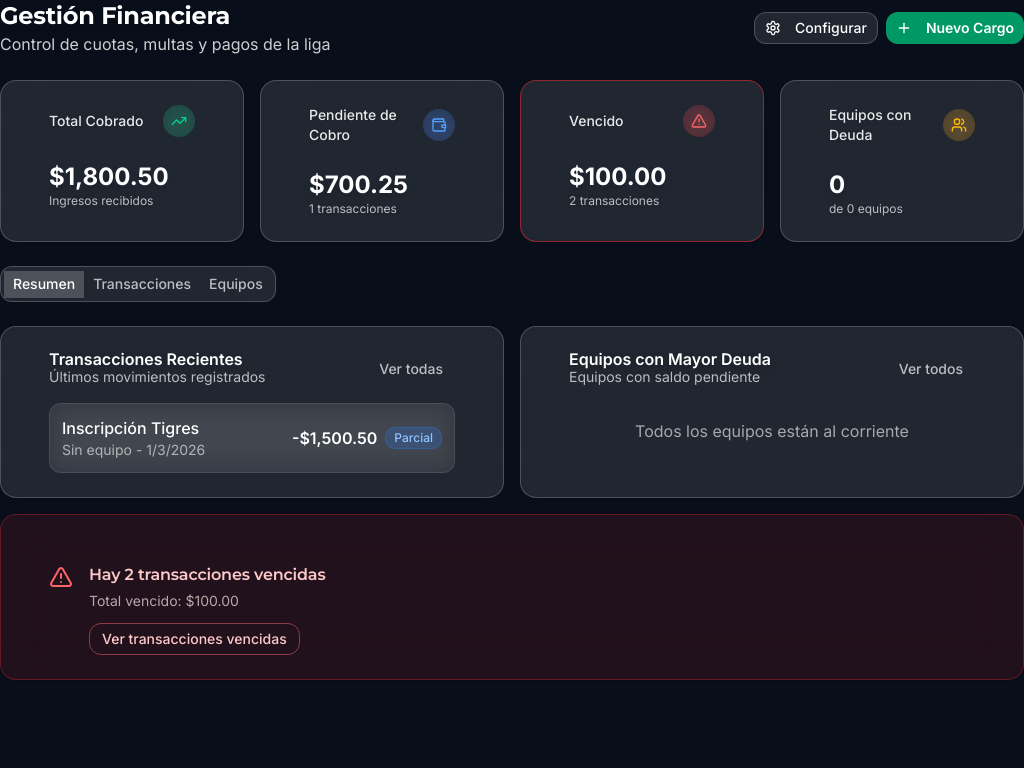
Test case: Finance parity: payment dialog › summarises the charge and says whether the payment is full or partial
Click the tab "Transacciones" at (142, 284), box [84,270,200,298]
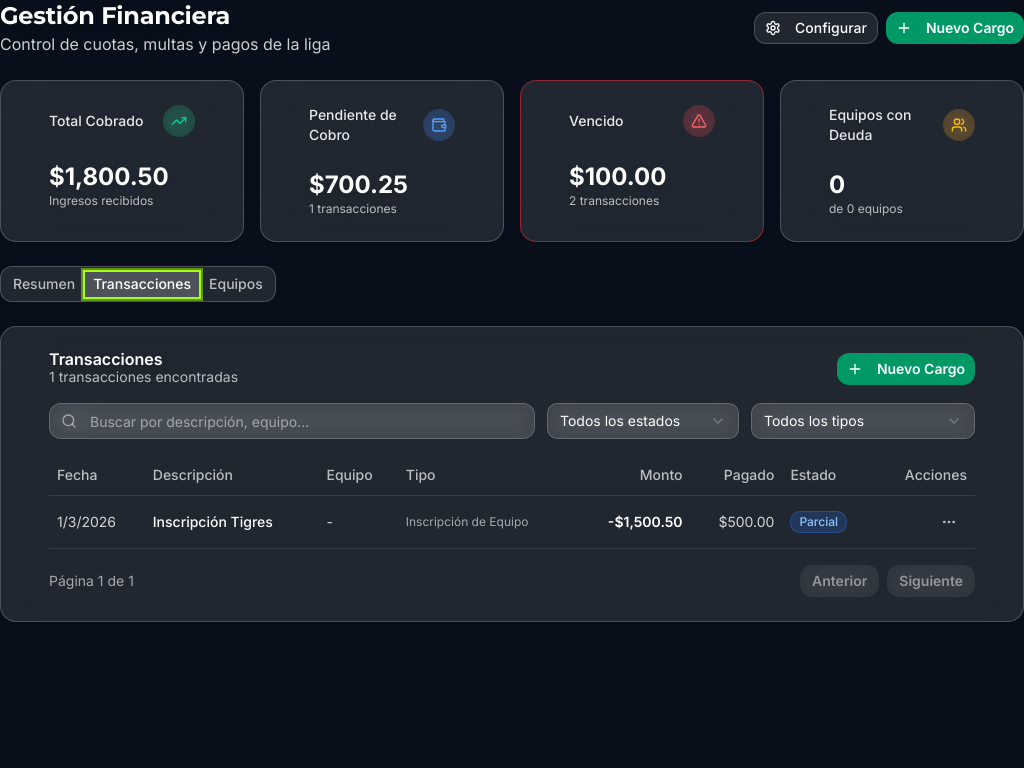
Click the button named "Acciones de Inscripción Tigres" at (949, 522), box [931,504,967,540]
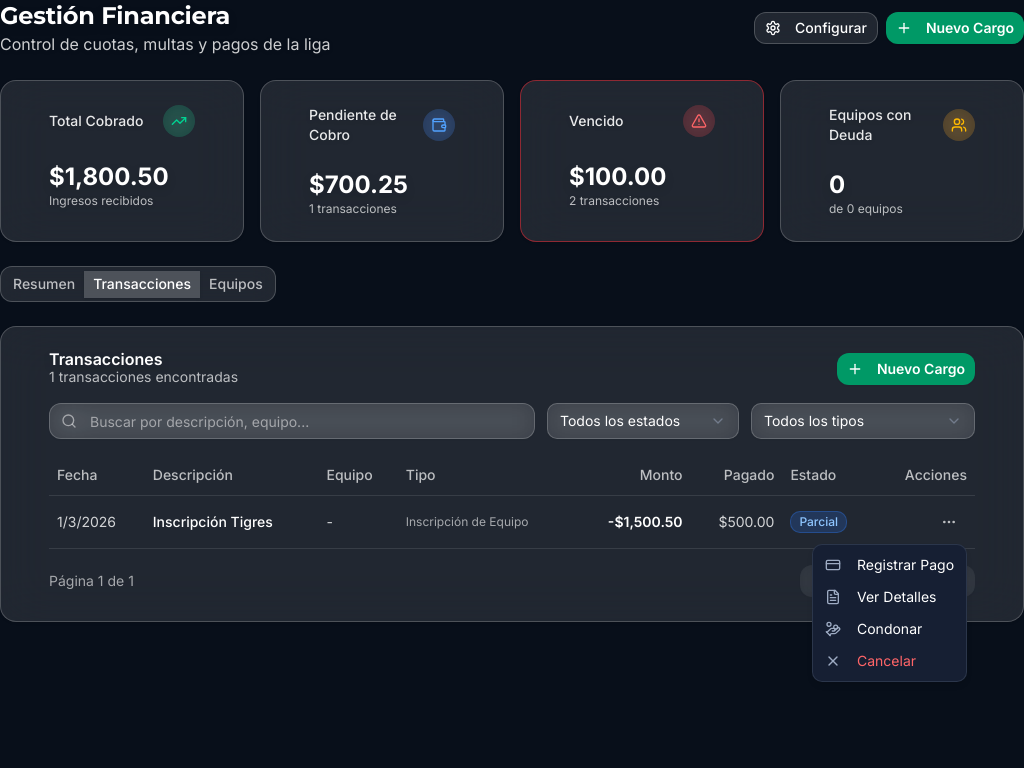
Click the menu item "Registrar Pago" at (890, 564), box [825,556,954,573]
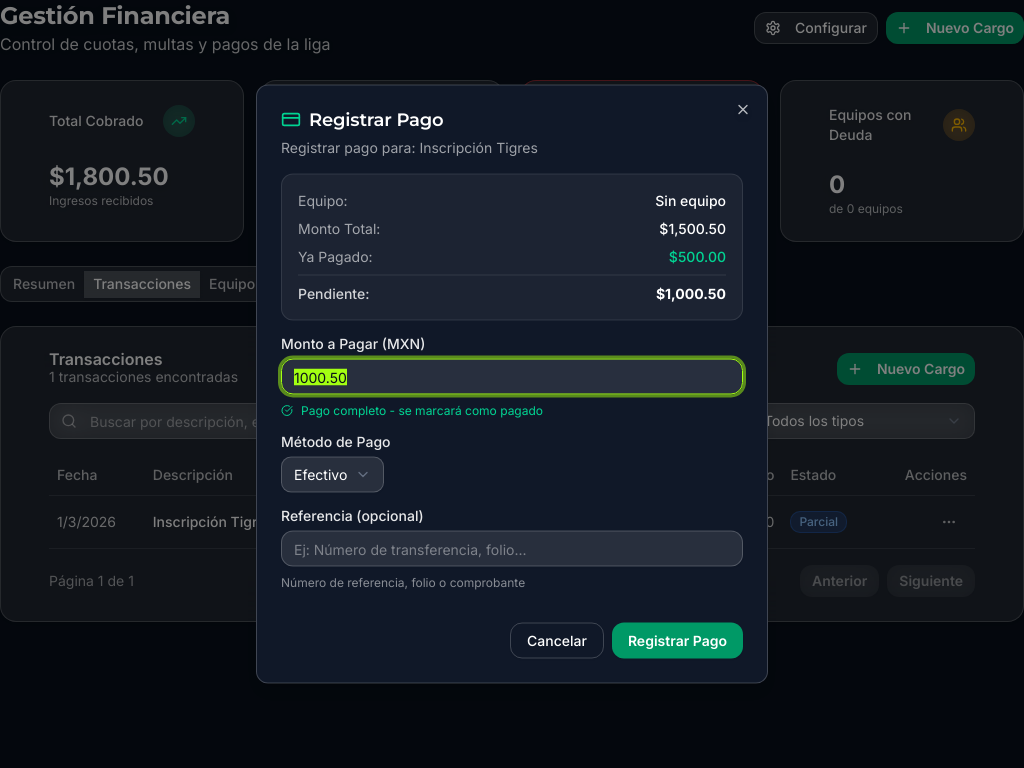
Check: the text "Registrar pago para: Inscripción Tigres" is shown, box [281,138,538,156]
Check: the text "$1,500.50" is shown, box [659,218,726,238]
Check: the text "$500.00" is shown, box [669,246,726,266]
Clear the field labelled "Monto a Pagar (MXN)" at (512, 376), box [281,358,743,394]
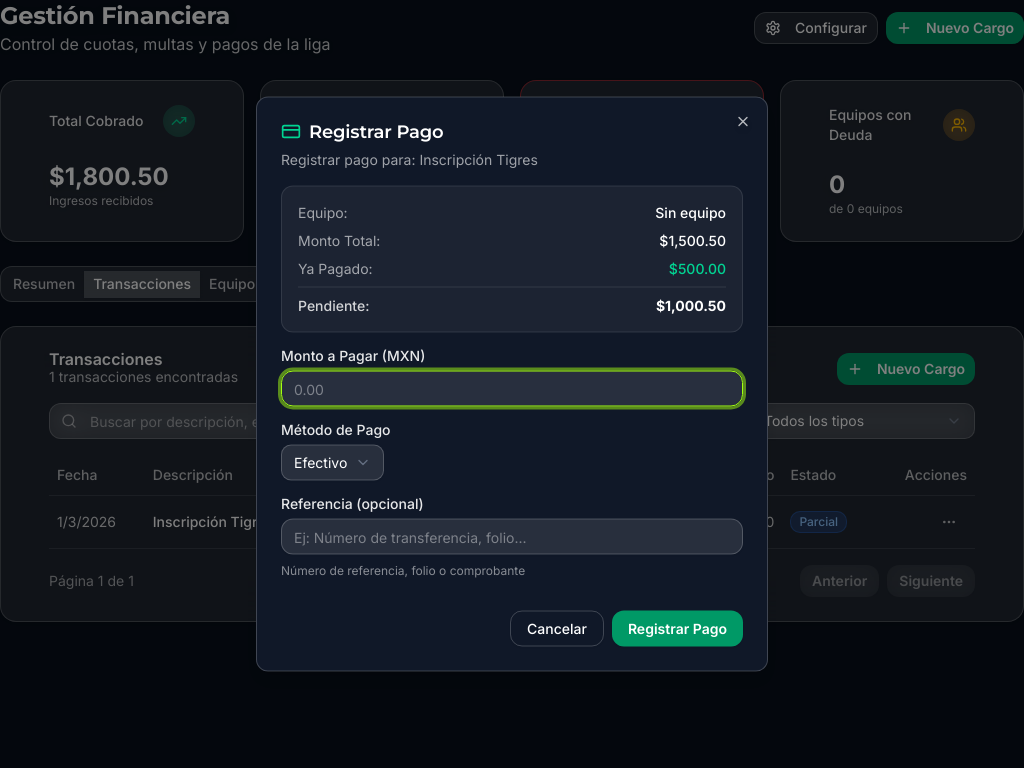
Type "400" into the field labelled "Monto a Pagar (MXN)" at (512, 388), box [281,370,743,406]
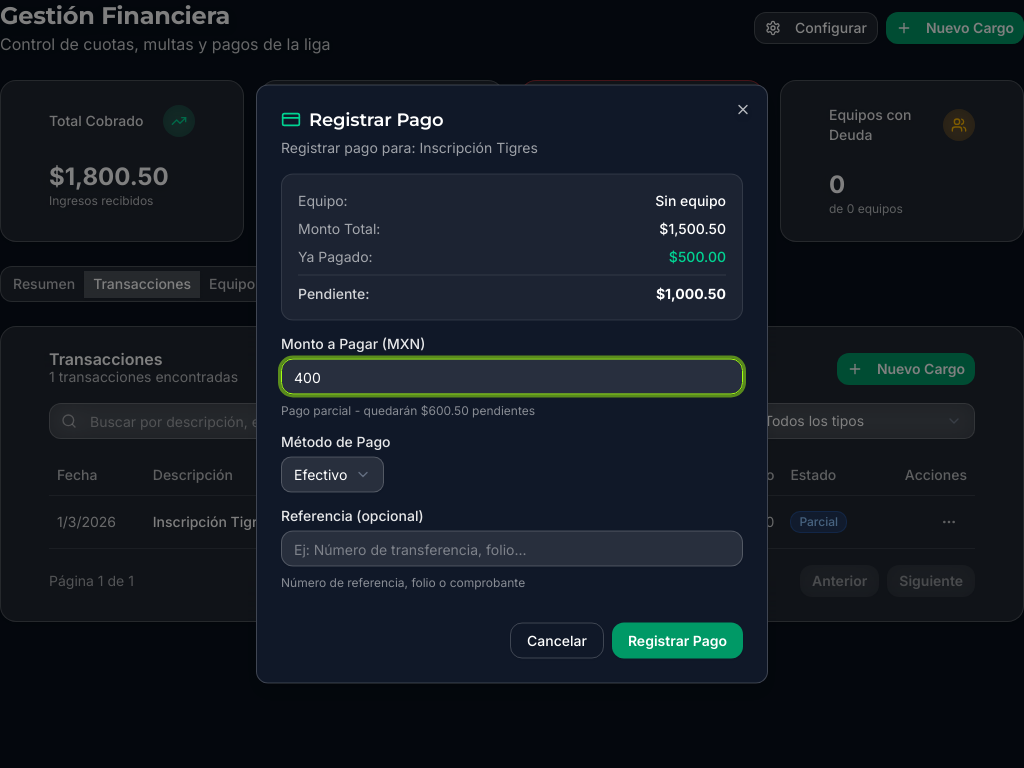
Check: the text "Pago parcial - quedarán $600.50 pendientes" is shown, box [281,402,535,418]
